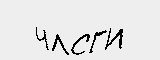Г: (88, 30, 105, 53)
И: (103, 24, 125, 53)
Л: (51, 30, 72, 56)
С: (69, 32, 90, 58)
Ч: (34, 27, 49, 48)
